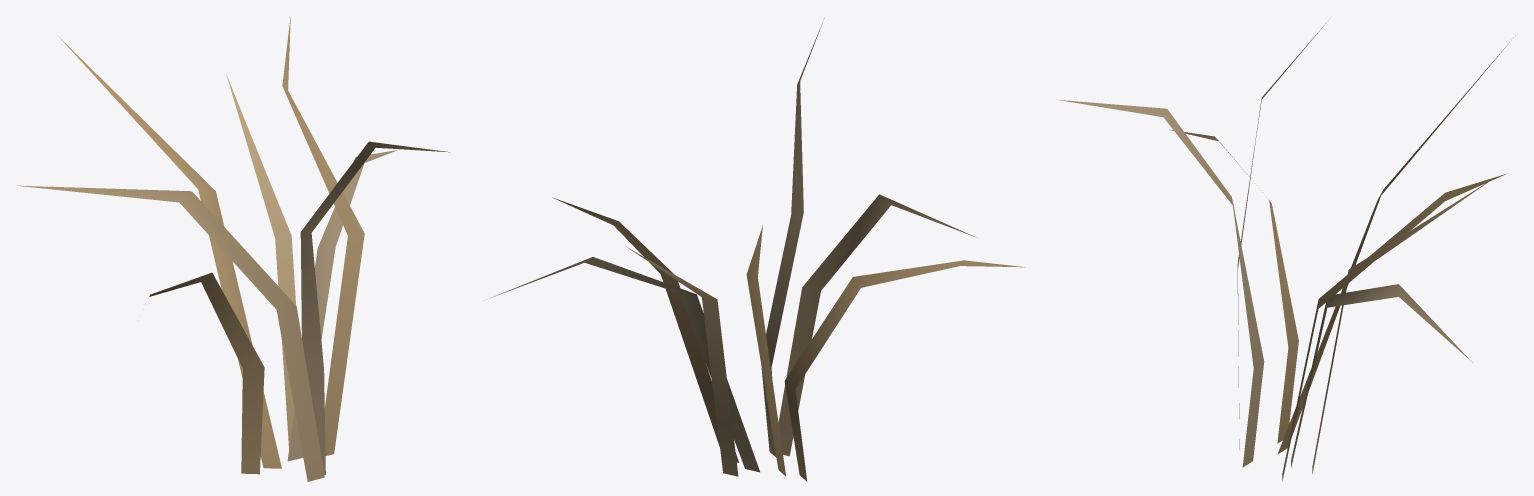
File: Grass_f_OneS_03.fbx
3 renders of one model, left to right at view 1: azimuth 30°, elevation 25°; view 2: azimuth 150°, elevation 25°; view 3: azimuth 270°, elevation 25°, orthographic. The views are drawn at different scales.
Parts seen in each view (by area): view 1: Grass_f_OneS_03; view 2: Grass_f_OneS_03; view 3: Grass_f_OneS_03.
Boxes of the visible parts, x1,y1,x2,y2 form: Grass_f_OneS_03: (17, 17, 450, 481); Grass_f_OneS_03: (489, 18, 1024, 481); Grass_f_OneS_03: (1056, 20, 1515, 480).
Bounding box in the file's own units: 45.7 × 36.92 × 40.26.
